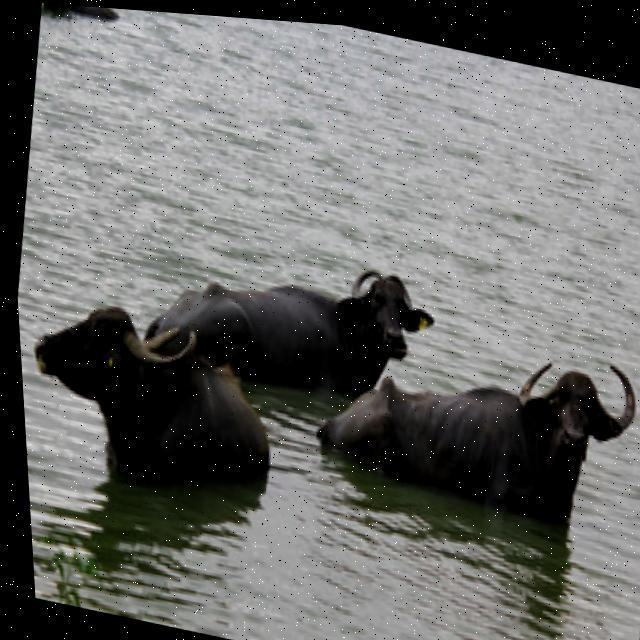Buffalo: (308, 302, 640, 551), (17, 288, 287, 499)
